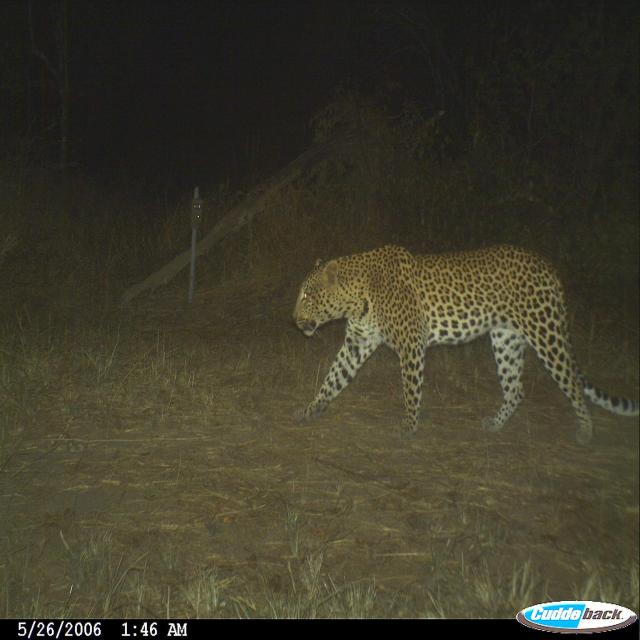Leopard: (282, 230, 638, 442)
